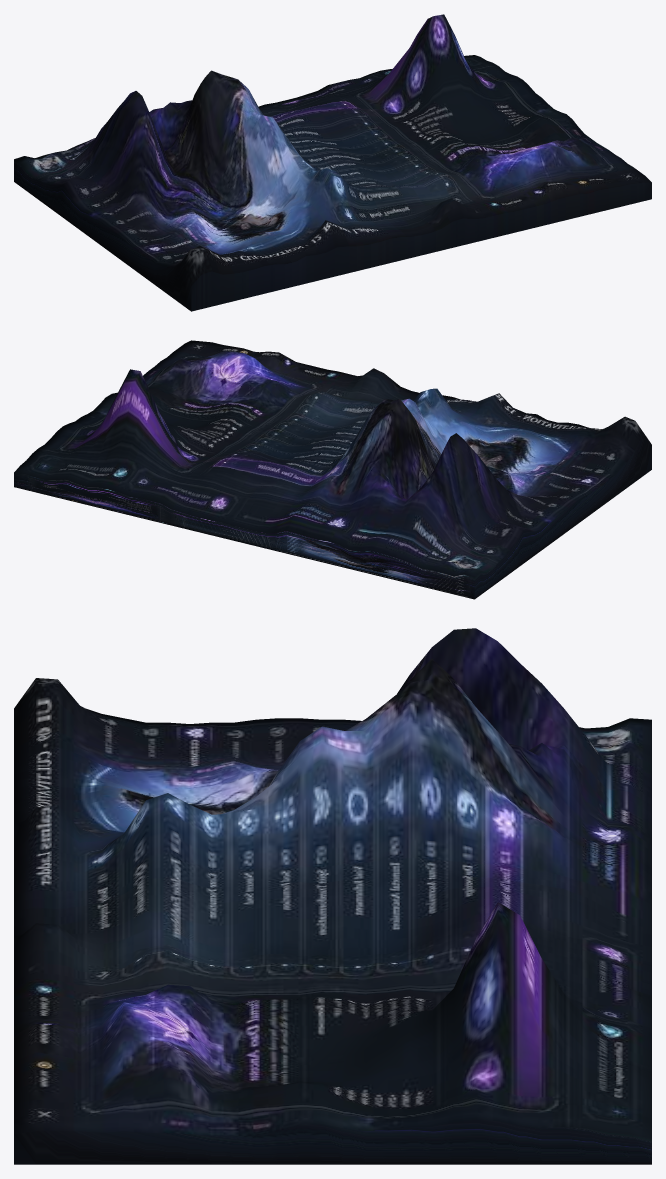
File: UI_09_Cultivation.glb
3 views of the same model, one above another, from view 1: azimuth 30°, elevation 25°; view 2: azimuth 150°, elevation 25°; view 3: azimuth 270°, elevation 25° (orthographic). The views are drawn at different scales.
Visible parts, largest first — view 1: UI_09_Cultivation; view 2: UI_09_Cultivation; view 3: UI_09_Cultivation.
Boxes of the visible parts, x1,y1,x2,y2 form: UI_09_Cultivation: [14, 14, 651, 311]; UI_09_Cultivation: [14, 340, 651, 599]; UI_09_Cultivation: [14, 628, 651, 1164].
Bounding box in the file's own units: 2 × 0.51 × 1.33.
1 material, 1 textured.
